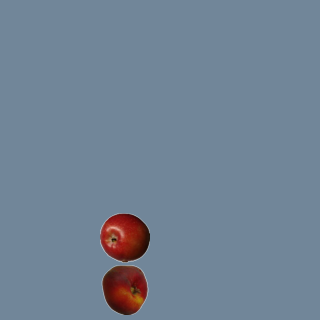Apple Braeburn: (99, 212, 149, 262)
Nectarine Flat: (99, 264, 149, 314)
